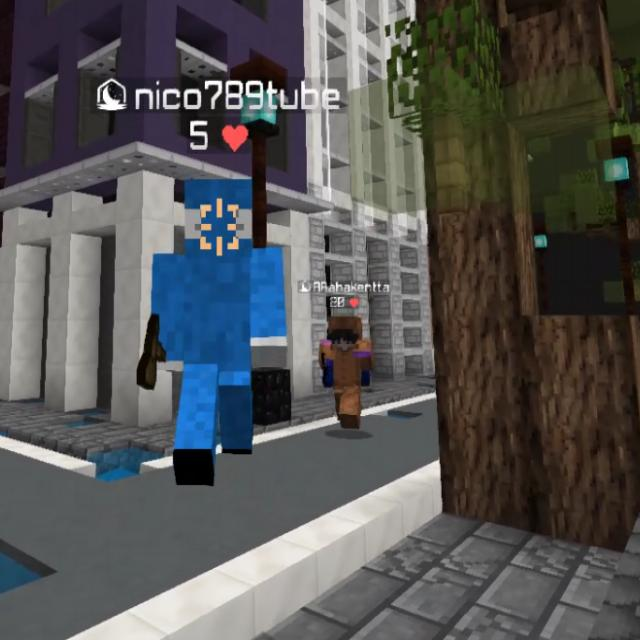Player: (146, 178, 287, 487), (319, 315, 378, 430)
